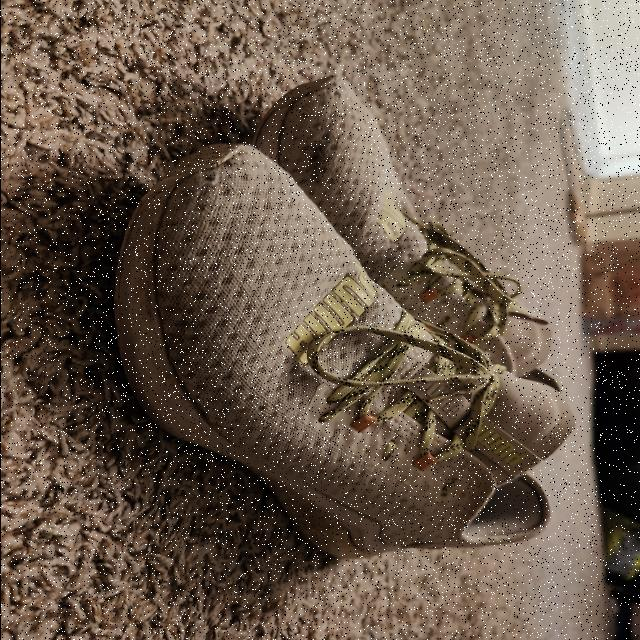white shoes: (124, 142, 566, 554)
